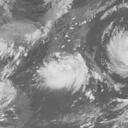cyclone: (34, 51, 89, 94)
